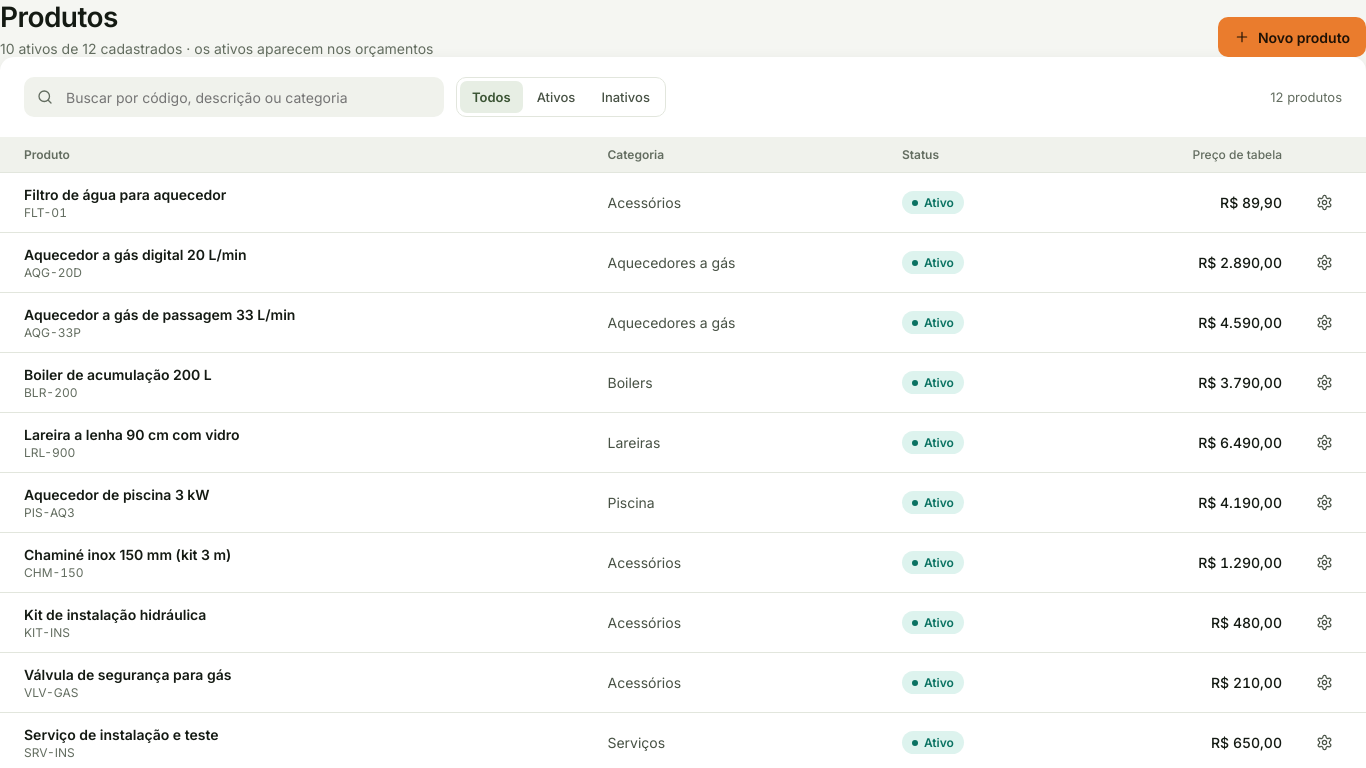
Test: ProductsPage › ao inativar um produto, ele vai para o fim da lista
Check: the row that starts with "Filtro de água para aquecedor" shows "Ativo", box [924,195,954,210]
Click the button named "Ações de Boiler de acumulação 200 L" at (1324, 382), box [1306,364,1342,400]
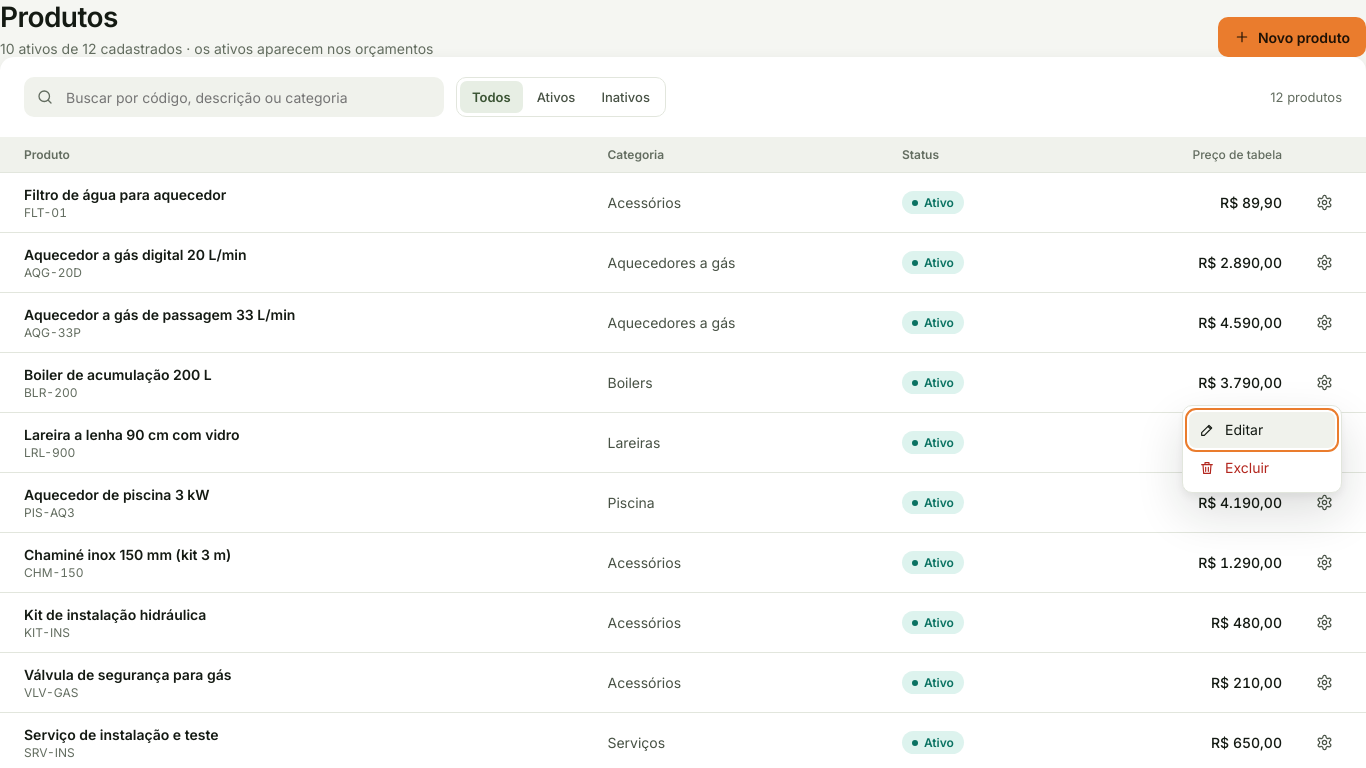
Click the menu item "Editar" at (1262, 430), box [1189,412,1335,448]
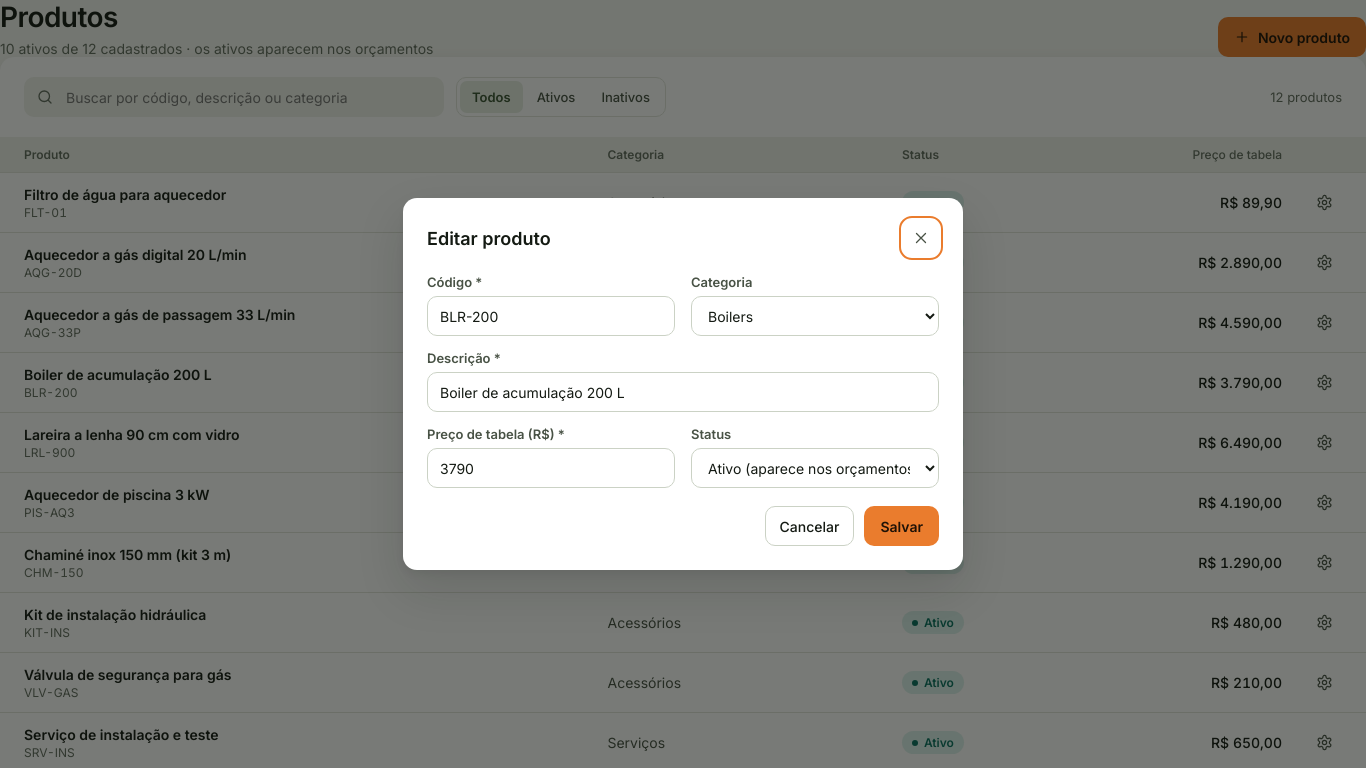
Select "Inativo" in the dropdown labelled "Status" at (815, 468), box [691,448,939,488]
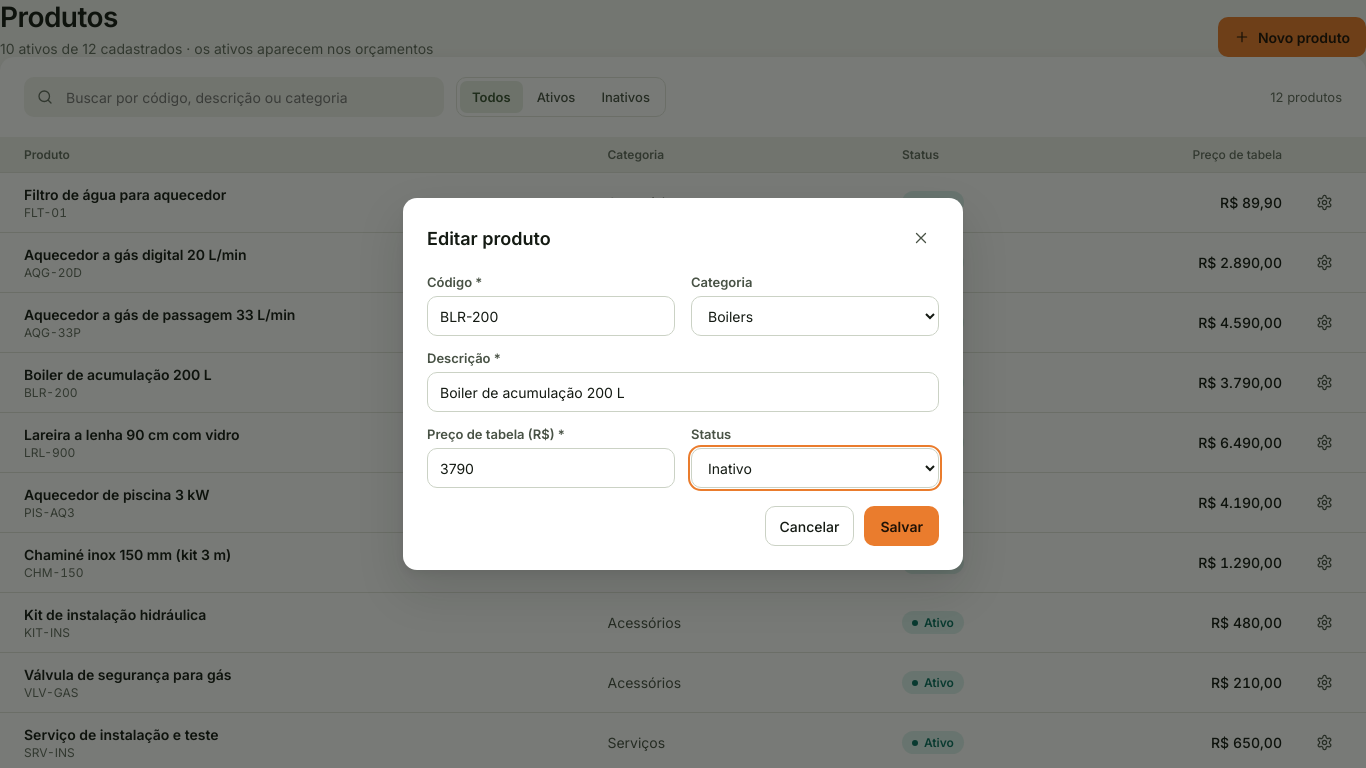
Click the button "Salvar" at (902, 526), box [864,506,939,546]
(page scrolled)
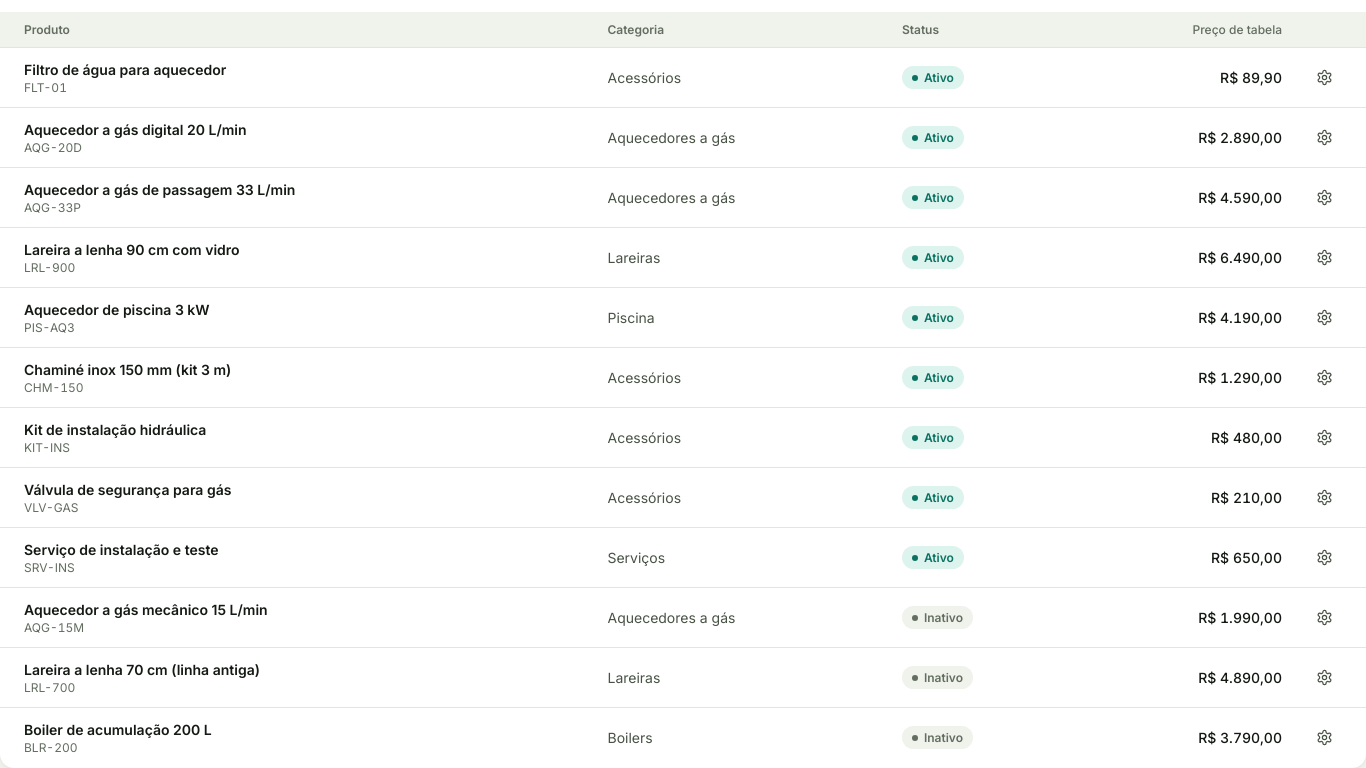
Check: the row that starts with "Boiler de acumulação 200 L" is shown, box [24,721,212,738]
Check: the row that starts with "Boiler de acumulação 200 L" shows "Inativo", box [924,730,963,745]
